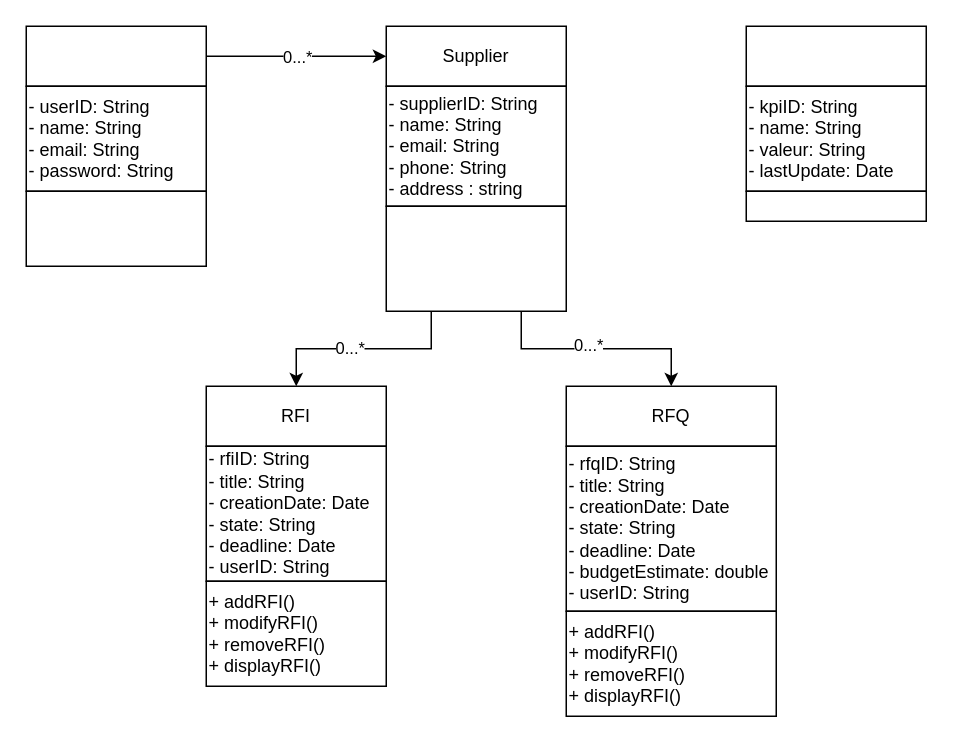
Some shapes in this 953 by 743 pixel diagram are drawn without their labels. Here are the shapes that lost their labels. From the top down, the centre of each, then its label:
the point at 115,55: User
the point at 835,55: KPI
the point at 835,205: + displayKPI()
the point at 115,228: + signIn() + signUp() + logOut()
the point at 475,258: + addSupplier() + modifySupplier() + removeSupplier() + displaySupplier()
